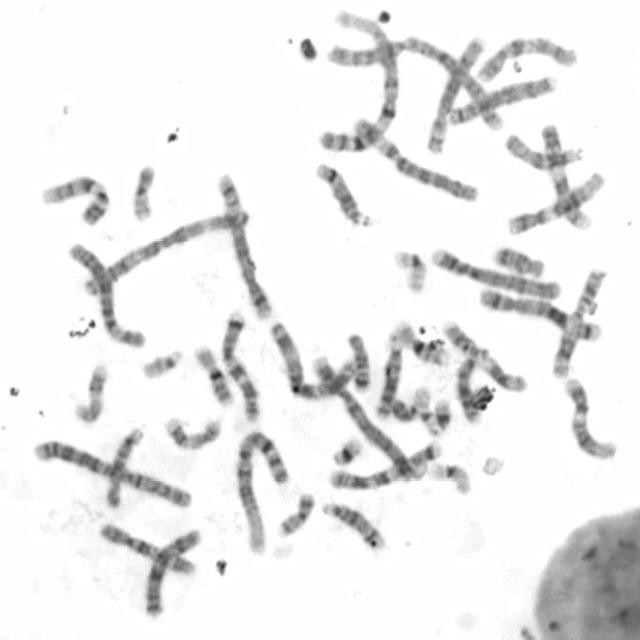A1: (314, 7, 402, 157), (231, 426, 290, 558)
A2: (329, 30, 507, 137), (28, 436, 194, 511)
A3: (74, 205, 253, 298), (266, 316, 360, 402)
B4: (306, 350, 422, 484), (426, 243, 560, 302)
B5: (212, 168, 274, 322), (476, 285, 604, 343)
C10: (96, 518, 200, 580), (473, 32, 578, 83)
C11: (547, 265, 609, 381), (438, 316, 529, 395)
C12: (502, 167, 606, 237), (560, 374, 618, 462)
C6: (349, 111, 481, 206), (64, 238, 148, 350)
C7: (324, 437, 442, 493), (218, 307, 262, 424)
C8: (426, 38, 494, 157), (444, 75, 562, 128)
C9: (537, 119, 592, 231), (38, 171, 110, 228)
D13: (372, 337, 405, 421), (453, 350, 480, 424)
D14: (310, 159, 372, 230), (318, 497, 387, 552)
D15: (101, 422, 146, 510), (501, 130, 584, 171)
E16: (385, 317, 449, 367), (190, 341, 235, 408)
E17: (160, 411, 223, 453), (70, 360, 110, 424)
E18: (490, 242, 548, 279), (344, 327, 372, 393)
F19: (390, 245, 430, 297), (426, 458, 472, 497)
F20: (274, 487, 317, 538), (128, 160, 158, 224)
G21: (328, 433, 365, 468), (426, 394, 454, 436)
G22: (138, 344, 185, 381), (411, 381, 436, 428)
X: (140, 524, 204, 618)
Y: (391, 396, 413, 422)
